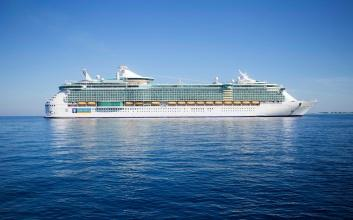youlun: (36, 67, 325, 118)
